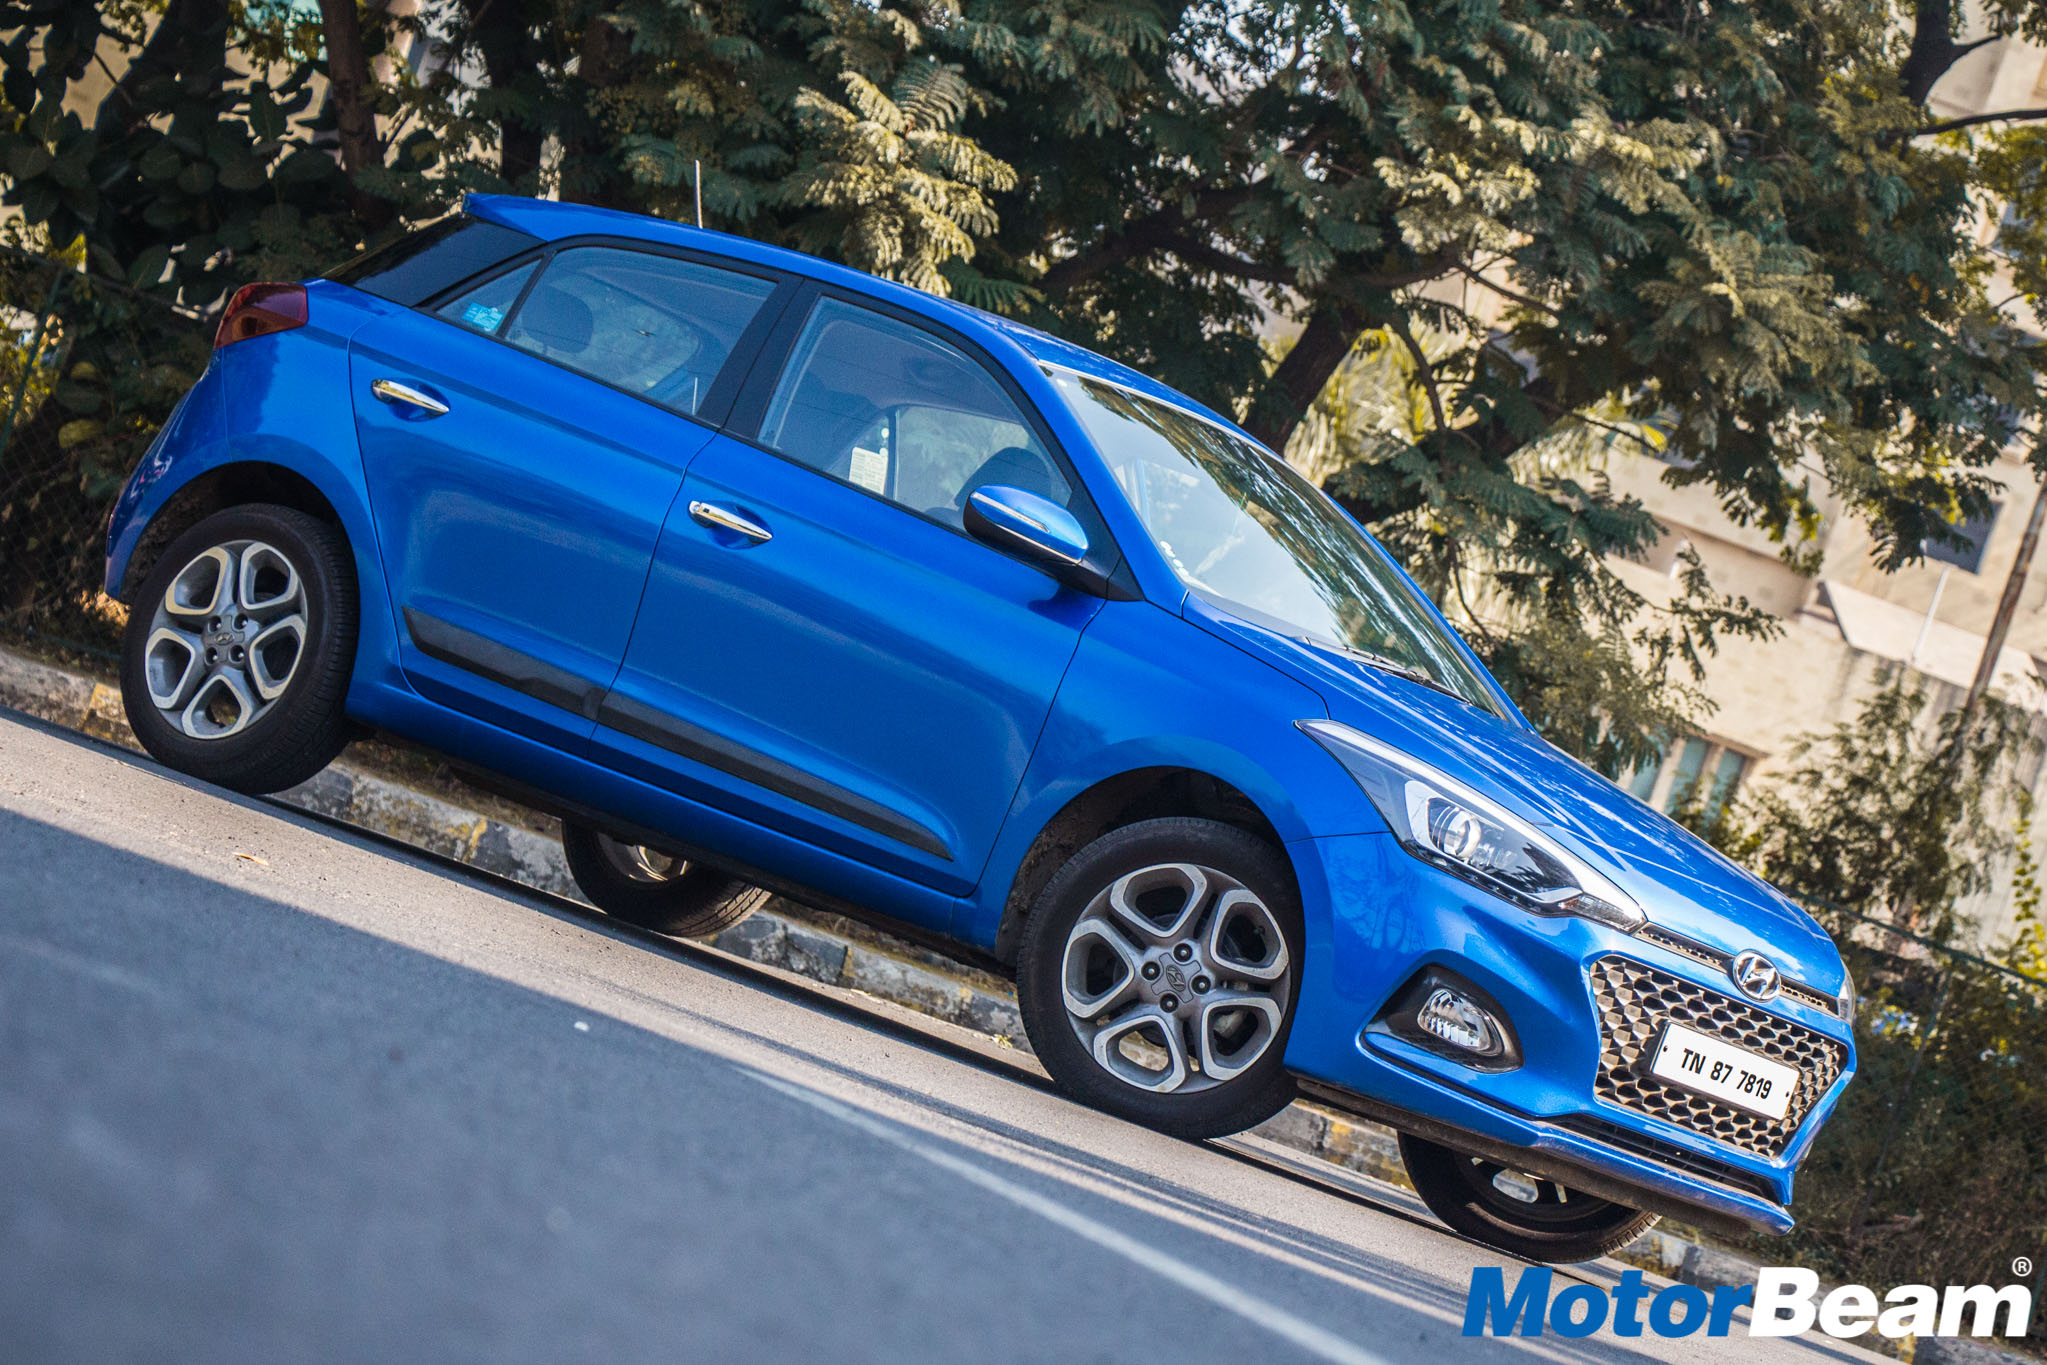i20: (97, 108, 1892, 1360)
